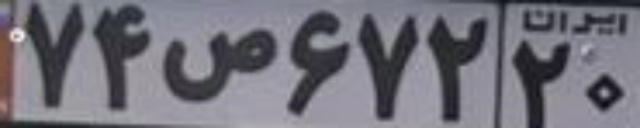0: (579, 74, 626, 111)
2: (426, 17, 483, 121), (506, 39, 573, 127)
4: (92, 4, 147, 109)
6: (283, 9, 350, 115)
7: (21, 0, 85, 108), (355, 12, 416, 119)
saat: (158, 28, 279, 103)
